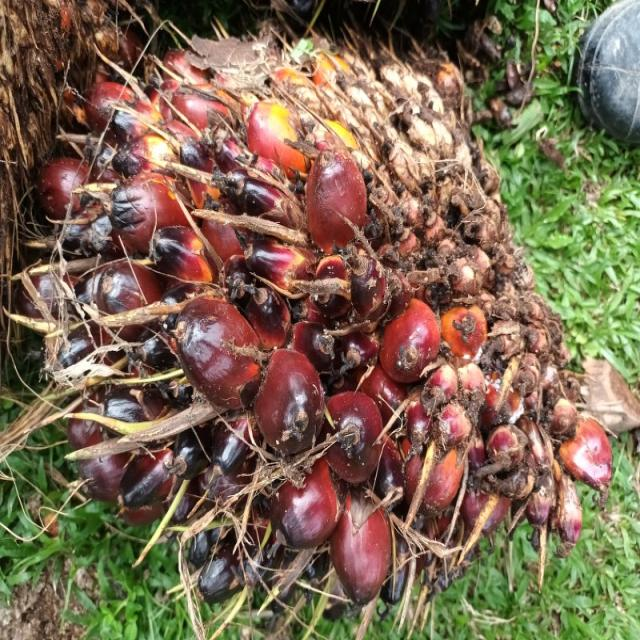fraksi 1: (14, 23, 450, 640)
